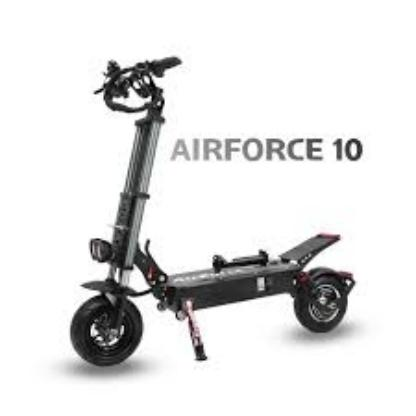bike: (69, 60, 356, 369)
